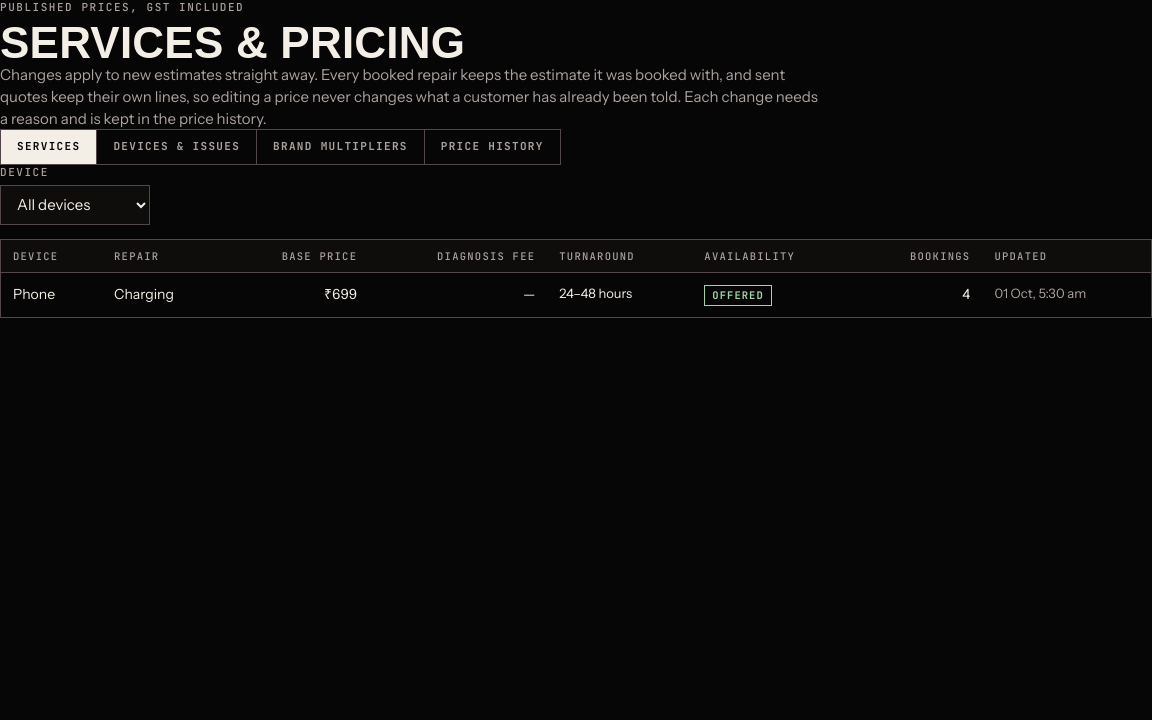
it: price changes › are read-only for roles without pricing access
Click the button "Charging" at (144, 295), box [114,284,174,305]
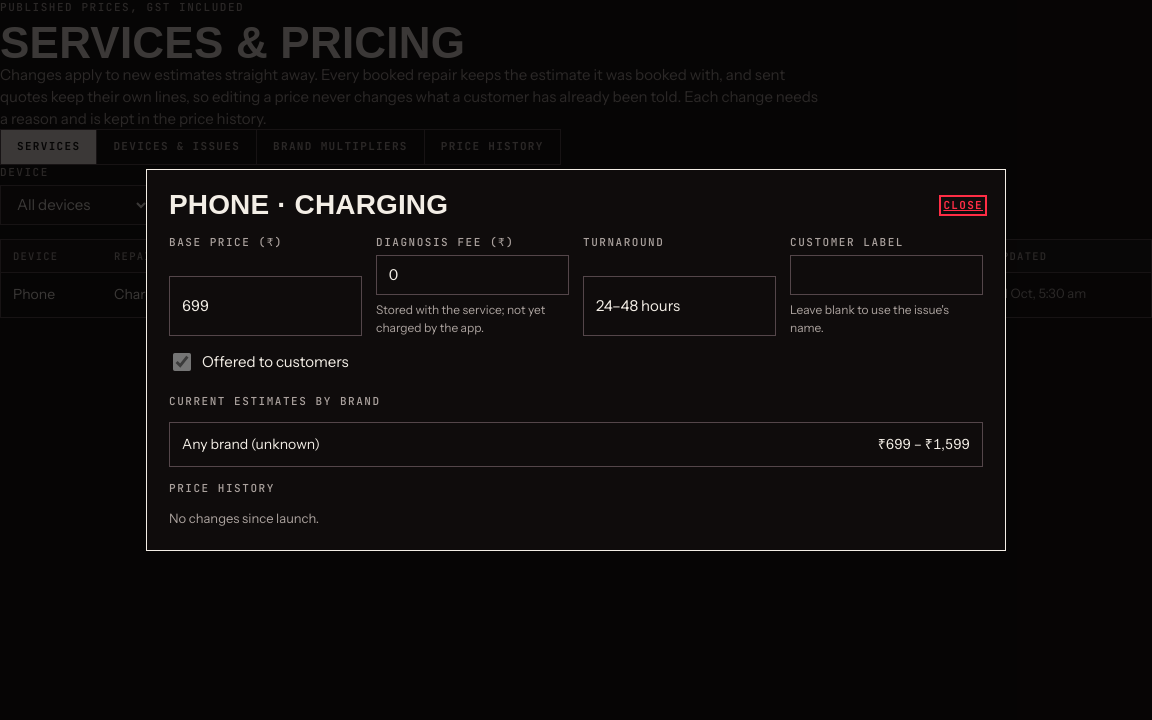
Expected: the number field labelled "Base price (₹)" is disabled, [169,276,362,336]
